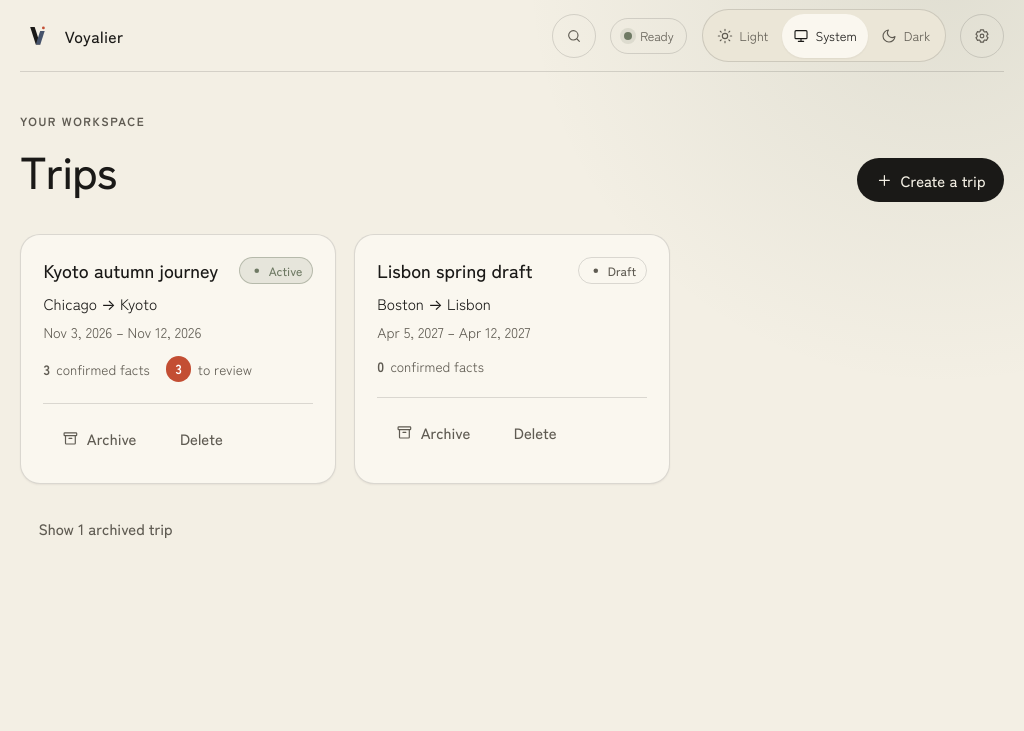
City packs › downloads a pack for the trip and then offers to remove it
Click the button with aria-label "Open Kyoto autumn journey": (131, 270) 43,257 -> 218,283
(page scrolled)
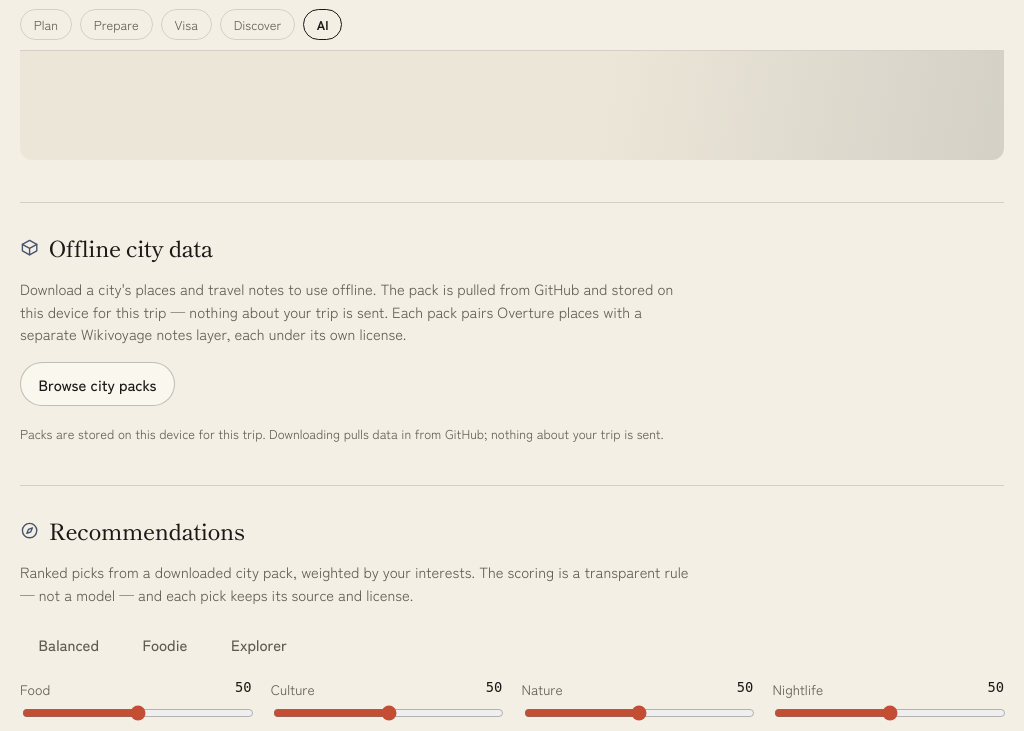
Click the button "Browse city packs": (98, 384) 20,362 -> 175,406
(page scrolled)
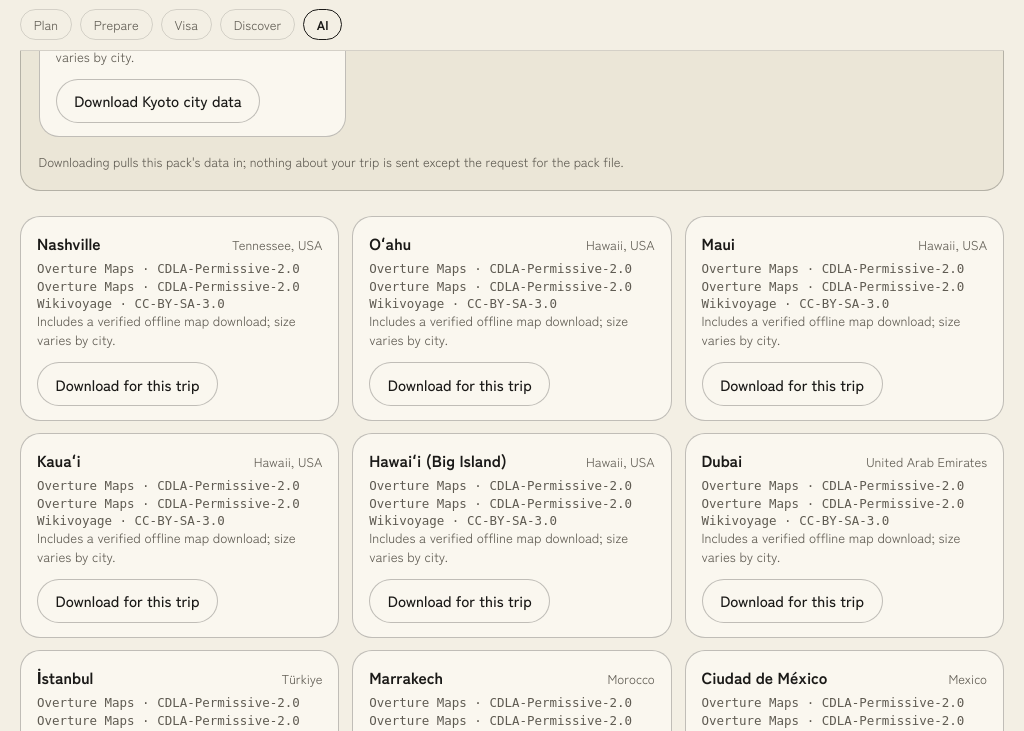
expect the text "offline map download; size varies by city" below "Nashville" is shown: met, box 37,311 -> 296,349
Click the button with aria-label "Download for this trip: Nashville": (128, 384) 37,362 -> 218,406
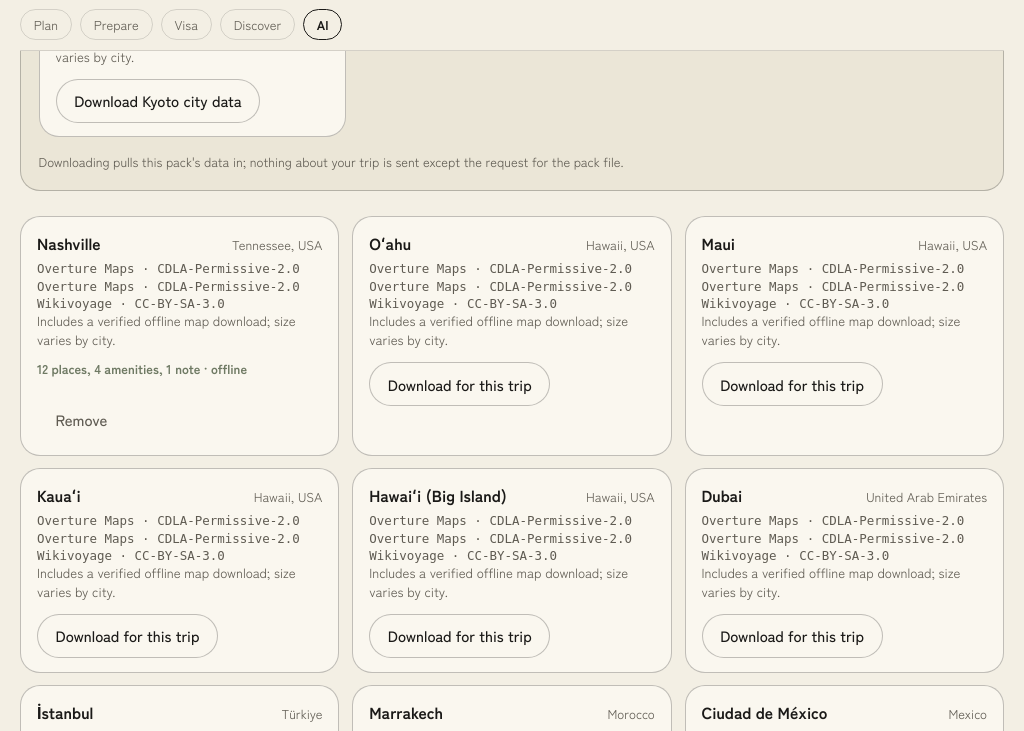
expect the text "offline" below "Nashville" is shown: met, box 37,311 -> 296,349
Click the button with aria-label "Remove Nashville": (81, 419) 37,397 -> 126,441
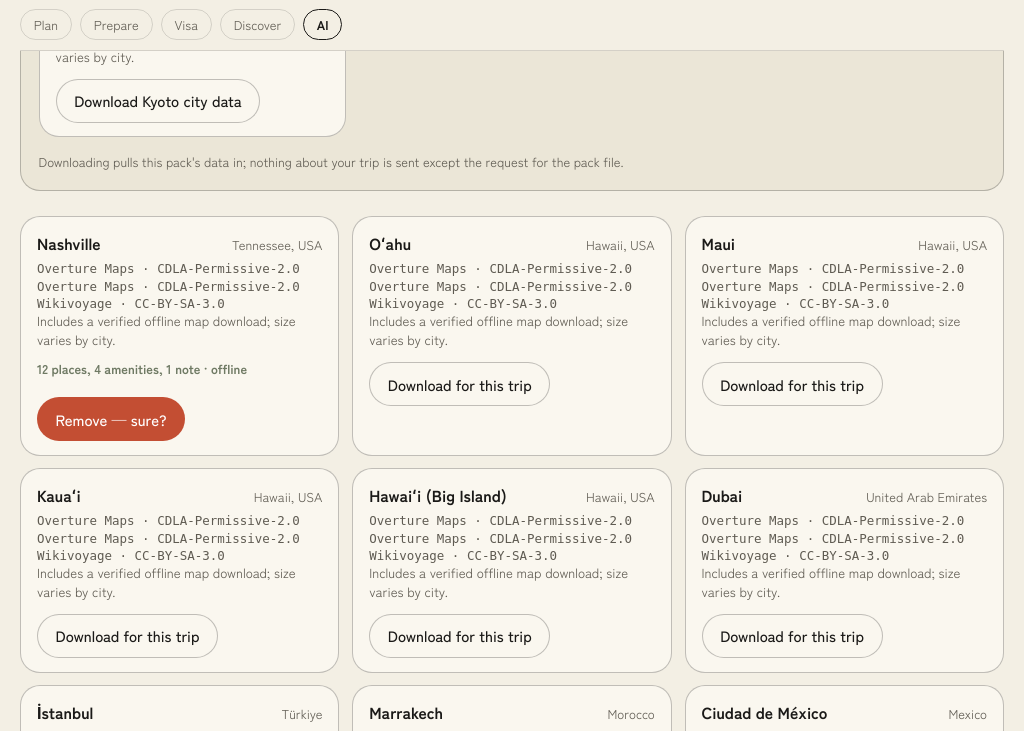
Click the button with aria-label "Remove Nashville": (111, 419) 37,397 -> 185,441
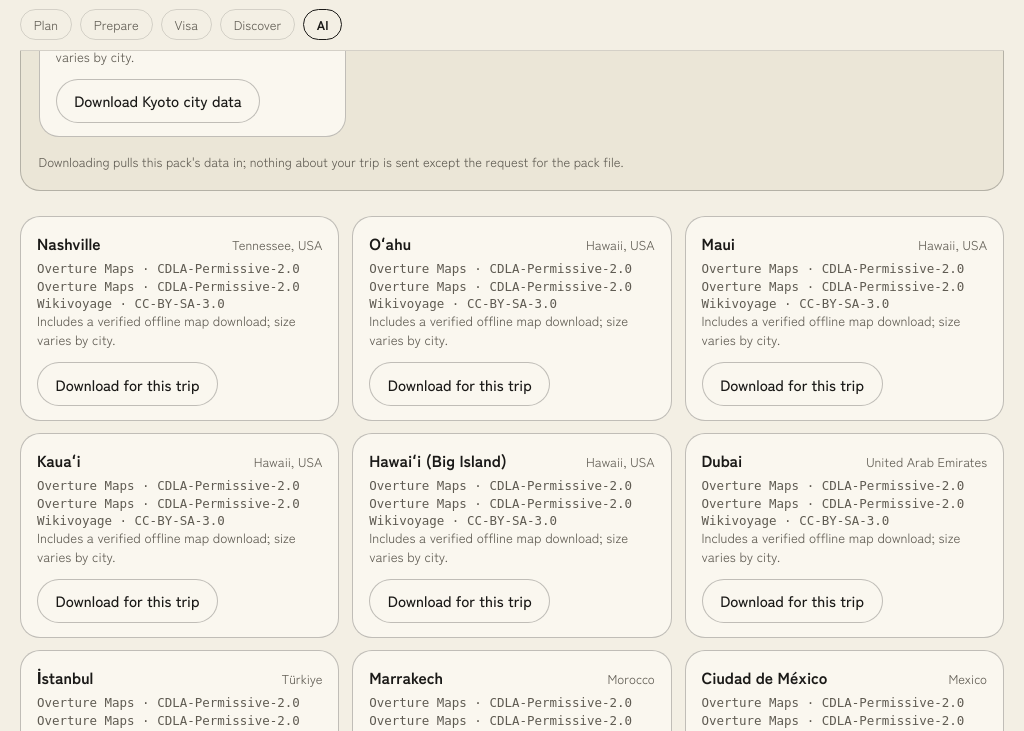
expect the button with aria-label "Download for this trip: Nashville" is shown: met, box 37,362 -> 218,406
